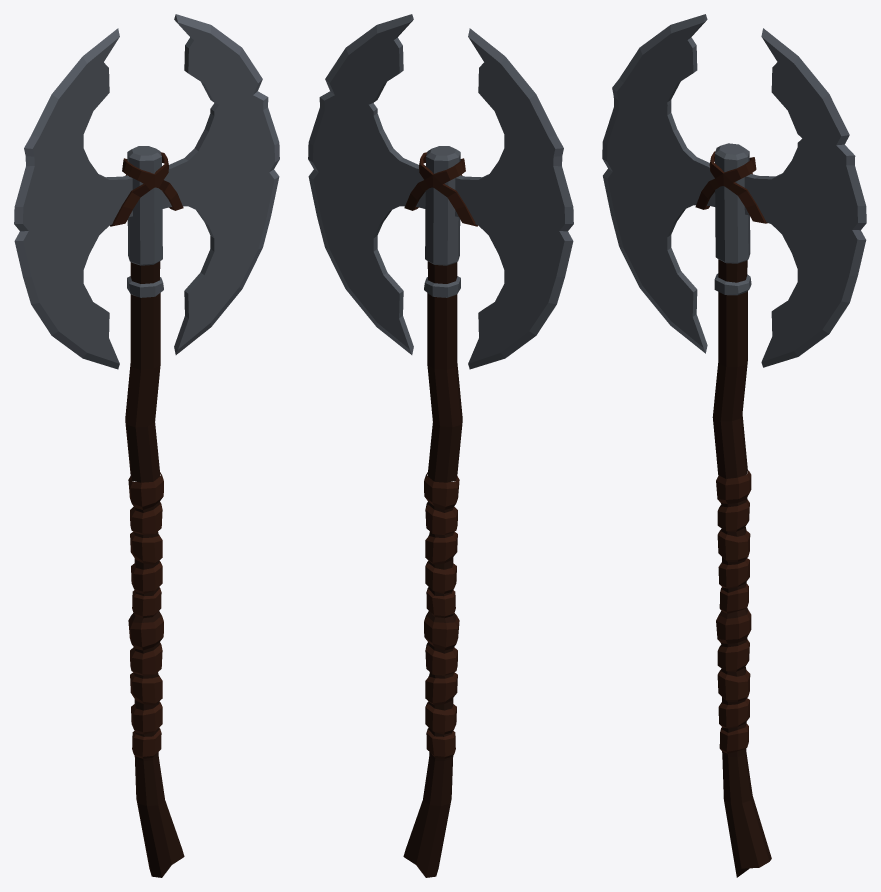
The model's file is Axe_Double.glb.
3 renders of one model, left to right at view 1: azimuth 30°, elevation 25°; view 2: azimuth 150°, elevation 25°; view 3: azimuth 330°, elevation 25°, orthographic.
Parts seen in each view (by area): view 1: Axe_Double; view 2: Axe_Double; view 3: Axe_Double.
Boxes of the visible parts, x1,y1,x2,y2 form: Axe_Double: (14,14,279,877); Axe_Double: (308,14,573,877); Axe_Double: (602,14,866,877).
Bounding box in the file's own units: 0.33 × 1.02 × 0.0417.
